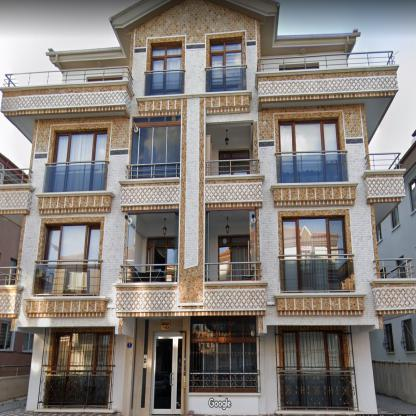door: (151, 333, 181, 414), (147, 243, 154, 268)
window: (192, 319, 256, 373), (279, 328, 350, 372), (131, 115, 180, 178), (283, 215, 346, 259), (49, 332, 110, 374), (44, 224, 100, 260), (278, 119, 340, 151), (54, 132, 107, 162), (219, 235, 249, 279), (209, 41, 241, 67), (148, 237, 178, 264), (151, 47, 181, 72), (219, 150, 249, 174), (402, 321, 415, 353), (0, 322, 13, 350), (384, 324, 396, 352), (22, 334, 34, 352), (409, 178, 415, 213), (392, 206, 399, 230), (376, 224, 382, 243)
